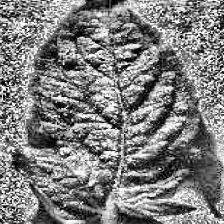spider mites: (13, 0, 201, 224)
